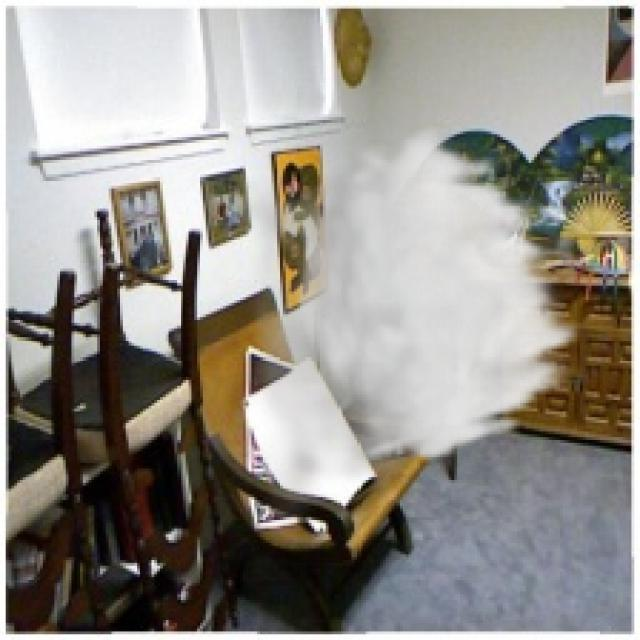Smoke: (226, 122, 588, 534)
